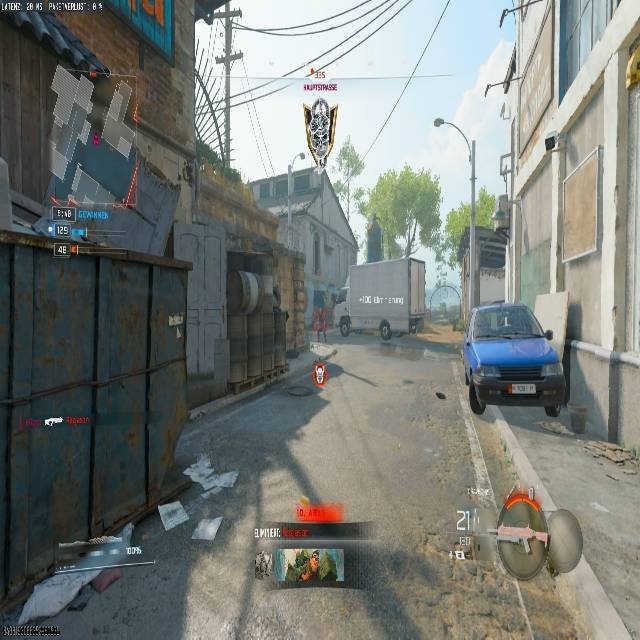player: (378, 316, 393, 346), (315, 314, 328, 343), (338, 314, 350, 336)
